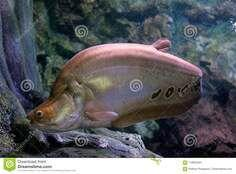Knifefish: (26, 39, 206, 133)
